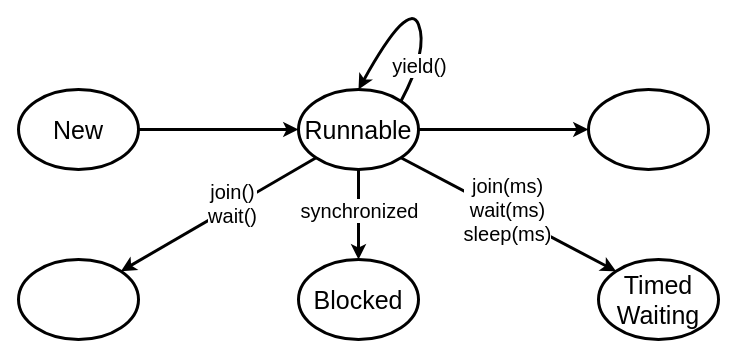
This 737x358 diagram has some shape labels left out. Each missing label, with the centre of its shape:
"Terminate" belongs at (x=648, y=129).
"Waiting" belongs at (x=78, y=299).
